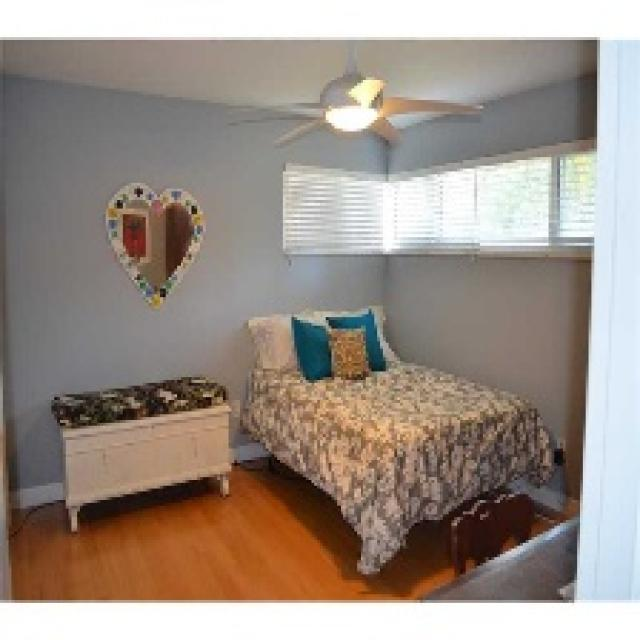Bed: (240, 306, 554, 574)
